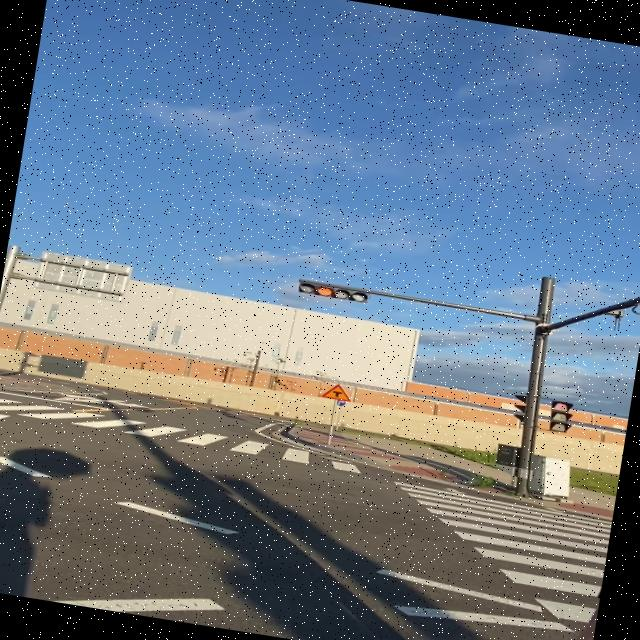yellow_light: (298, 282, 368, 304)
